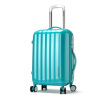luggage: (30, 3, 79, 95)
